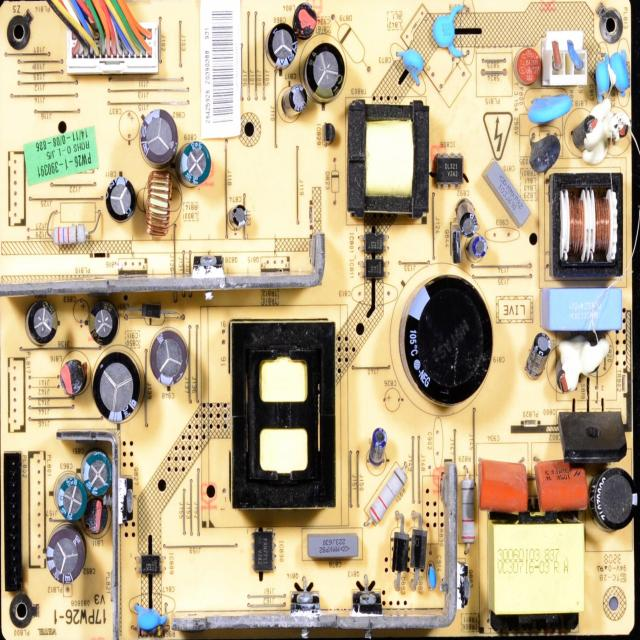Capacitor Jumper: (391, 281, 498, 405), (535, 451, 588, 518), (479, 452, 529, 517), (592, 471, 638, 539), (94, 356, 142, 419), (304, 41, 348, 105), (46, 526, 88, 592), (485, 162, 525, 226), (148, 332, 194, 386), (141, 110, 179, 172), (262, 25, 302, 79), (177, 130, 212, 189), (438, 6, 475, 54), (524, 124, 558, 176), (307, 532, 359, 564), (81, 449, 112, 498), (137, 596, 170, 640), (26, 302, 60, 343), (525, 332, 553, 381), (108, 176, 135, 226), (88, 307, 120, 348), (56, 476, 87, 518), (455, 191, 481, 235), (575, 110, 604, 148), (394, 47, 424, 83), (371, 426, 392, 470), (286, 84, 311, 119), (613, 52, 632, 98), (593, 59, 612, 102), (468, 231, 488, 264), (226, 201, 247, 229), (427, 568, 444, 601)
Connector: (2, 453, 32, 588)
IC: (249, 529, 284, 579), (433, 152, 465, 190), (138, 551, 166, 580), (357, 256, 391, 279), (359, 234, 392, 256), (322, 122, 334, 147)
Resistor Jumper: (367, 471, 405, 521), (48, 216, 94, 254), (460, 472, 480, 546)
Transistor: (192, 253, 230, 275), (116, 256, 149, 275), (258, 256, 289, 274), (450, 224, 462, 264)
